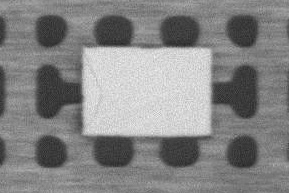DIE_CRACK: (83, 52, 103, 129)
